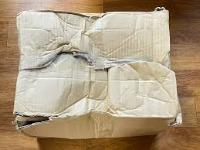damaged package: (25, 46, 107, 73), (10, 109, 69, 127)
undamaged: (7, 5, 187, 141)
